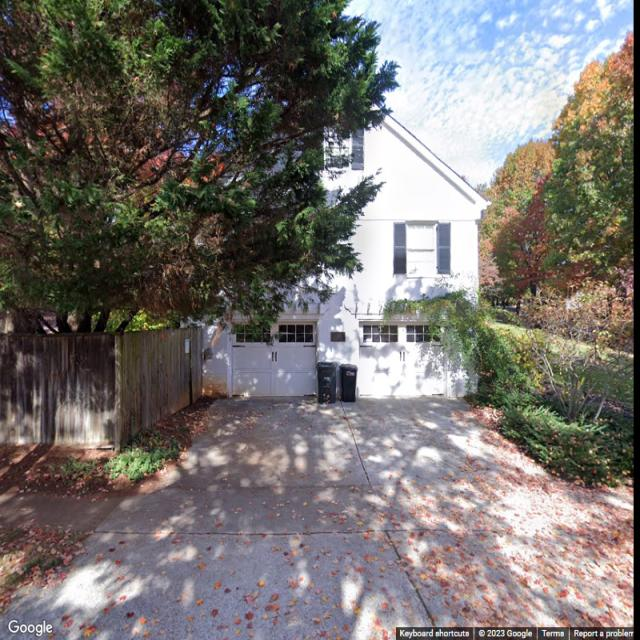House: (194, 90, 490, 400)
